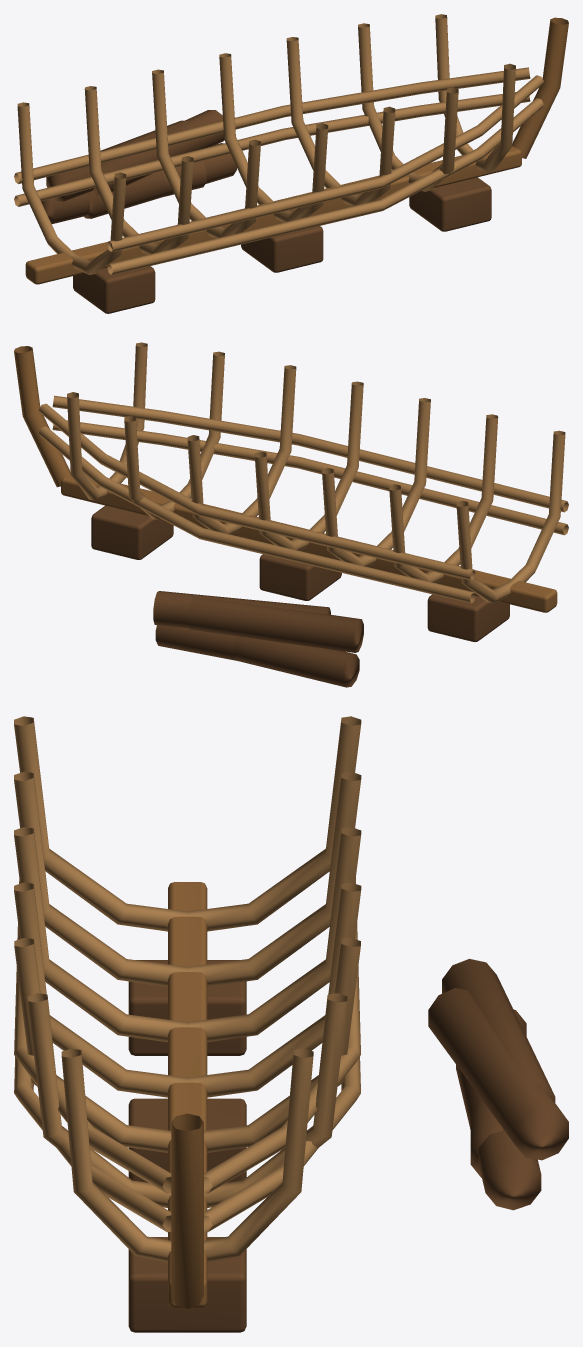
The model's file is ship_frame.glb.
3 renders of one model, top to bottom at view 1: azimuth 30°, elevation 25°; view 2: azimuth 150°, elevation 25°; view 3: azimuth 270°, elevation 25°, orthographic. The views are drawn at different scales.
Parts seen in each view (by area): view 1: ship_frame_main; view 2: ship_frame_main; view 3: ship_frame_main.
Part boxes in pixels (x1,y1,x2,y2): ship_frame_main: (14,14,568,313); ship_frame_main: (14,342,568,687); ship_frame_main: (14,716,568,1332).
Size of the model in its own units: 3.2 by 0.9571 by 1.69.
